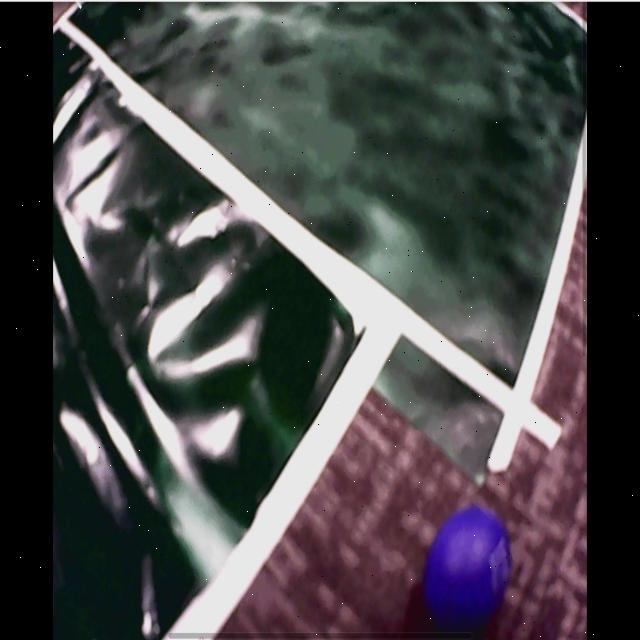ball: (428, 508, 512, 631)
